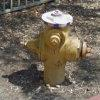Hydrant: (29, 7, 86, 85)
